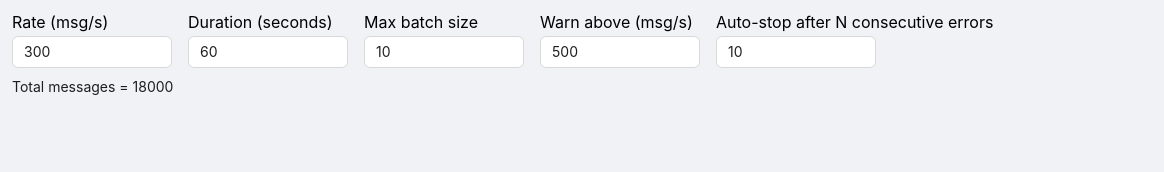
Test case: RateControls › warns when the threshold is lowered below the current rate
Replace the text in the number field labelled "Warn above (msg/s)" with "200" at (620, 52), box [541,37,699,67]
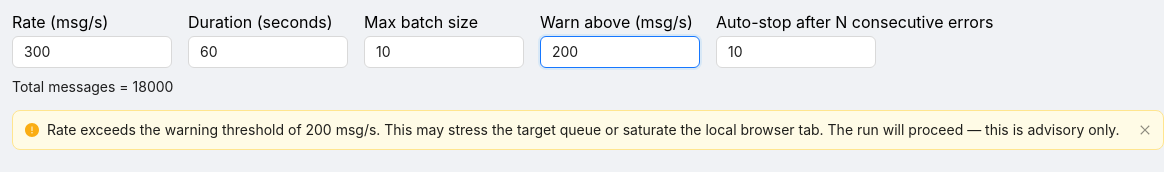
Expected: the element with test id "rate-warning" is shown, [12,110,1163,150]
Expected: the element with test id "rate-warning" shows "200 msg/s", [47,121,1120,138]
